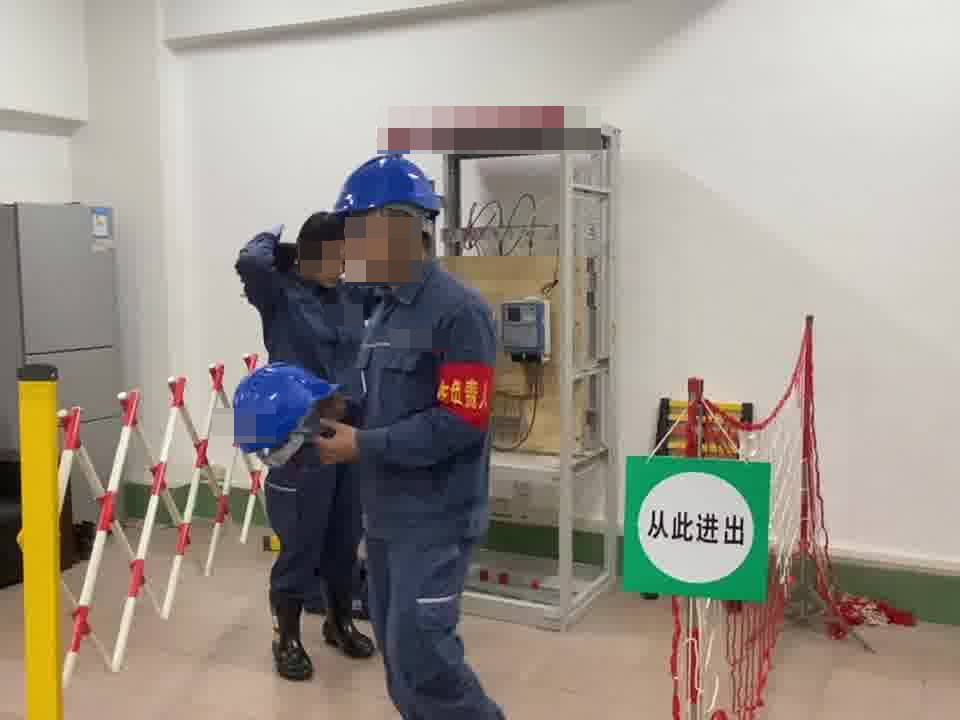badge: (436, 361, 496, 431)
downsuit: (365, 543, 511, 720), (263, 447, 358, 595)
halt: (330, 153, 444, 280)
hand: (313, 420, 362, 469)
inear: (374, 208, 427, 272)
intosign: (618, 446, 772, 603)
person: (308, 149, 506, 720), (346, 150, 516, 719), (231, 206, 371, 684)
shoe: (261, 590, 317, 679), (317, 579, 376, 660)
unhalt: (284, 207, 351, 286)
upsuit: (359, 268, 500, 531), (237, 237, 364, 451)
